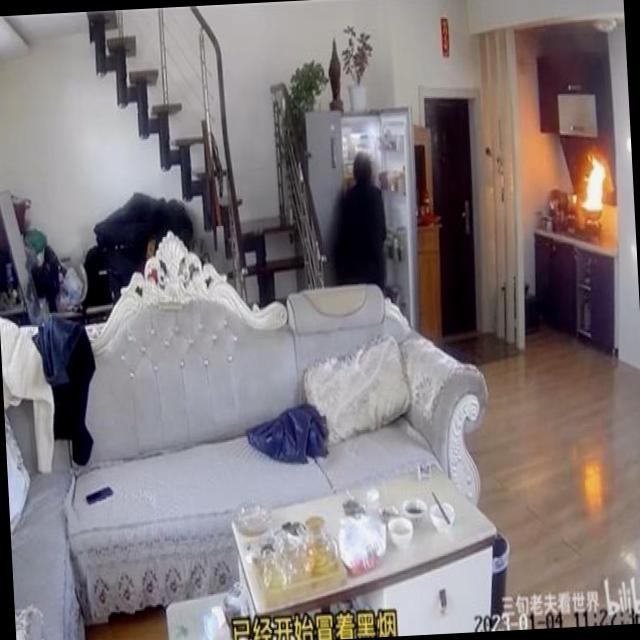fire: (567, 140, 624, 237)
